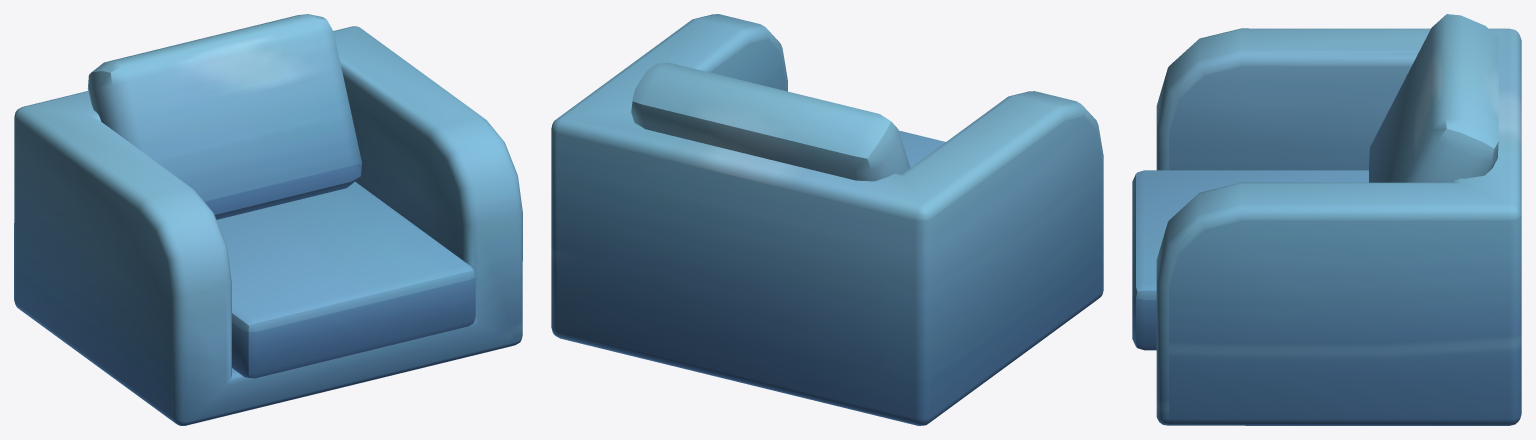
The model's file is fur_armchair.glb.
3 renders of one model, left to right at view 1: azimuth 30°, elevation 25°; view 2: azimuth 150°, elevation 25°; view 3: azimuth 270°, elevation 25°, orthographic. The views are drawn at different scales.
Visible parts, largest first — view 1: armchair; view 2: armchair; view 3: armchair.
Boxes of the visible parts, x1=… form: armchair: x1=14, y1=14, x2=522, y2=425; armchair: x1=551, y1=14, x2=1103, y2=425; armchair: x1=1132, y1=14, x2=1521, y2=425.
Size of the model in its own units: 1.8 by 1.22 by 1.6.
Materials: 1 (1 with a texture image).
